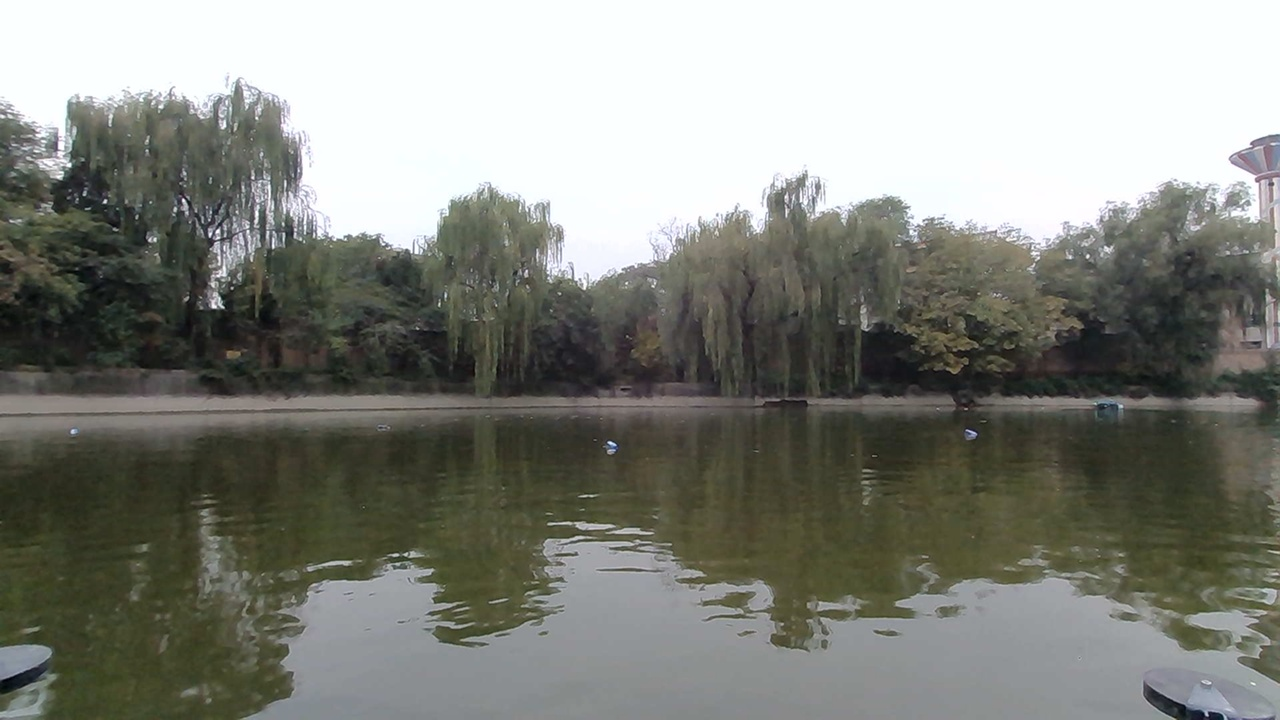bottle: (590, 431, 635, 458), (61, 414, 97, 446), (369, 414, 402, 437), (955, 419, 986, 443)
